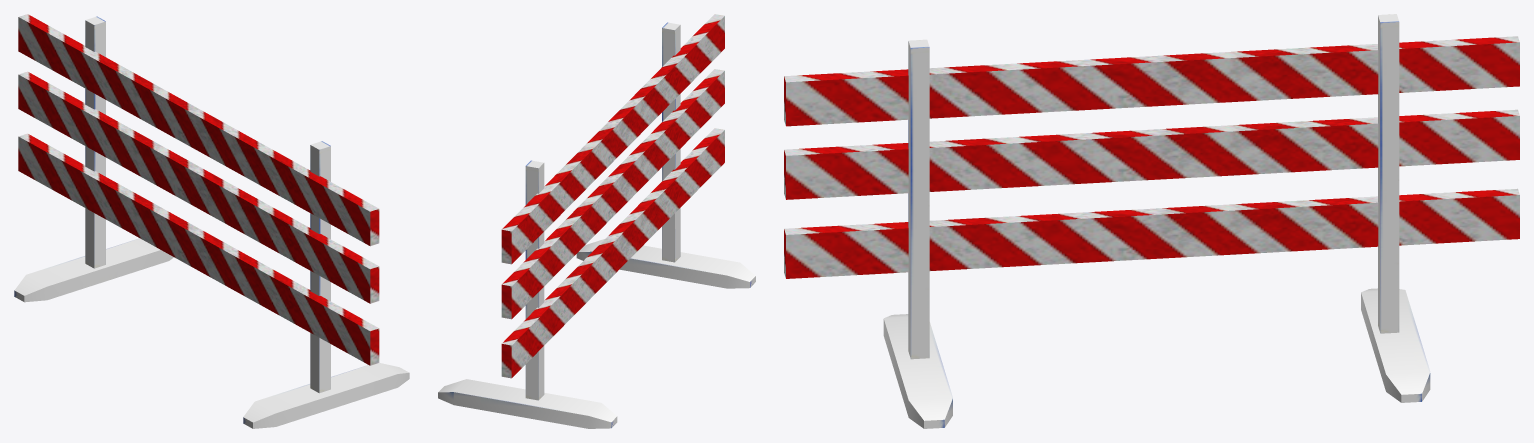
The model's file is road barrier A.FBX.
The picture shows the model from 3 angles, left to right: view 1: azimuth 30°, elevation 25°; view 2: azimuth 150°, elevation 25°; view 3: azimuth 270°, elevation 25°; orthographic projection. The views are drawn at different scales.
Visible parts, largest first — view 1: Box002; view 2: Box002; view 3: Box002.
Boxes of the visible parts, left/top/right/bottom form: Box002: left=14, top=14, right=409, bottom=428; Box002: left=438, top=14, right=755, bottom=428; Box002: left=784, top=14, right=1519, bottom=428.
Bounding box in the file's own units: 14.82 × 17.14 × 34.8.
